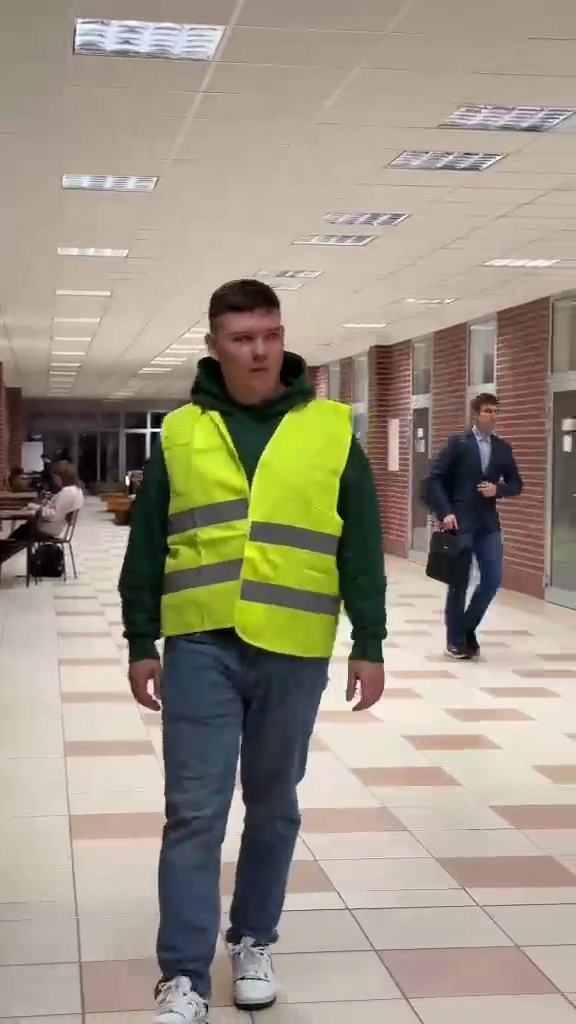no vest: (428, 392, 523, 658), (0, 450, 96, 574)
vest: (116, 263, 383, 1014)
